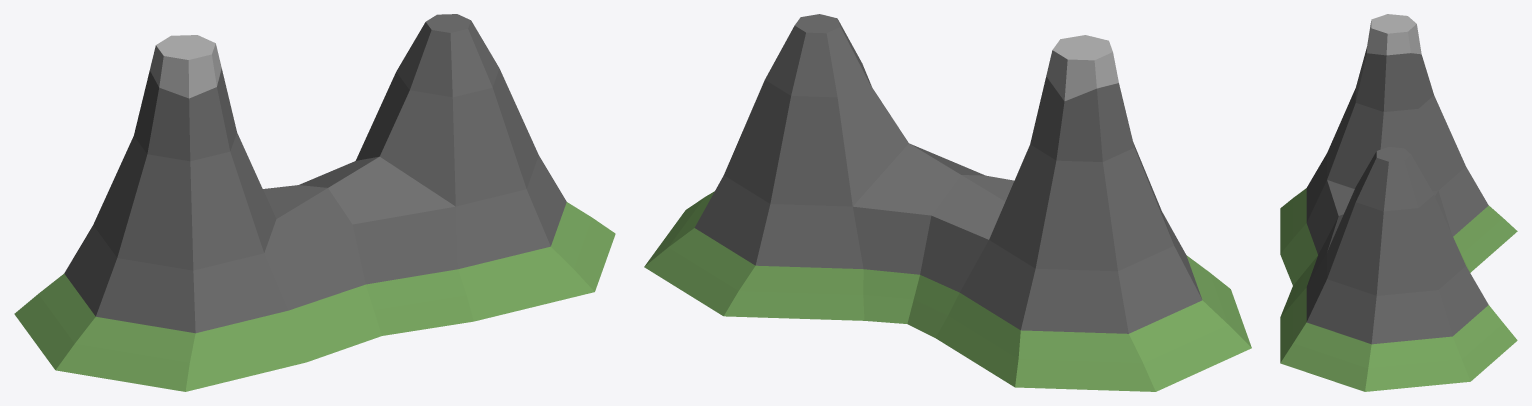
The model's file is Mountain_4.fbx.
The picture shows the model from 3 angles, left to right: view 1: azimuth 30°, elevation 25°; view 2: azimuth 150°, elevation 25°; view 3: azimuth 270°, elevation 25°; orthographic projection. The views are drawn at different scales.
Parts seen in each view (by area): view 1: Mountain_4; view 2: Mountain_4; view 3: Mountain_4.
Part boxes in pixels (bbox=[...]): Mountain_4: bbox=[14, 14, 615, 391]; Mountain_4: bbox=[644, 14, 1251, 391]; Mountain_4: bbox=[1280, 14, 1517, 391].
Bounding box in the file's own units: 6012 × 2807 × 2845.
